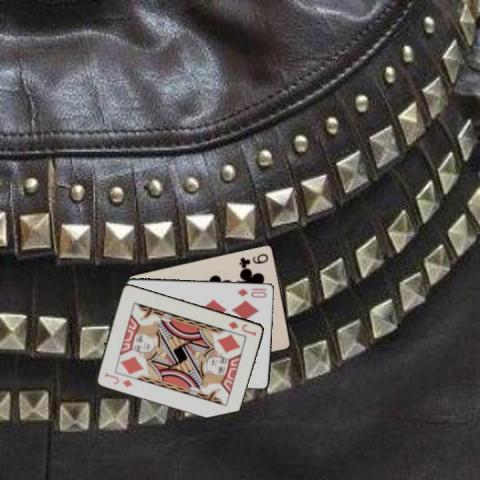10d: (235, 285, 268, 299)
9c: (236, 251, 270, 267)
Jd: (225, 318, 258, 337), (102, 369, 133, 389)
